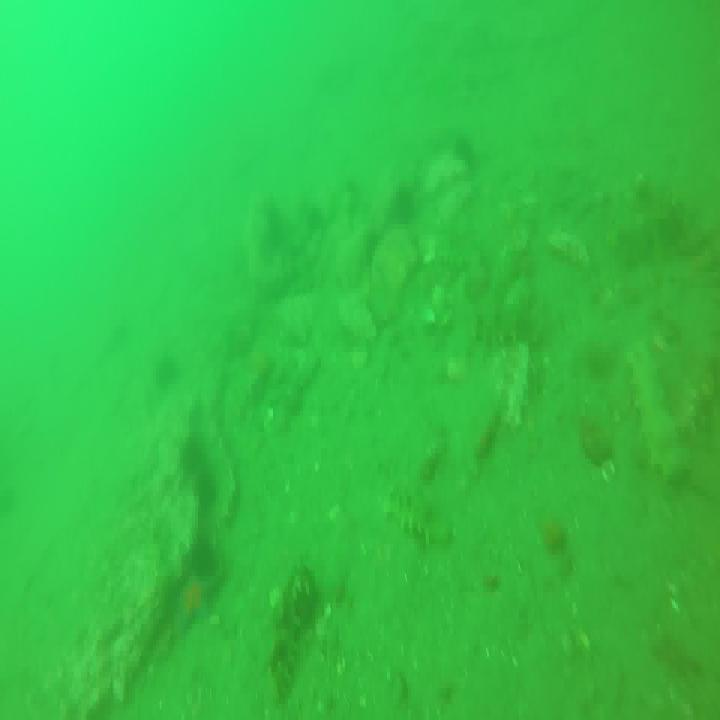echinus: (189, 528, 217, 576), (154, 356, 182, 396)
holothurian: (627, 340, 687, 484), (382, 485, 451, 546), (468, 301, 542, 349)
starfish: (170, 569, 218, 640)
